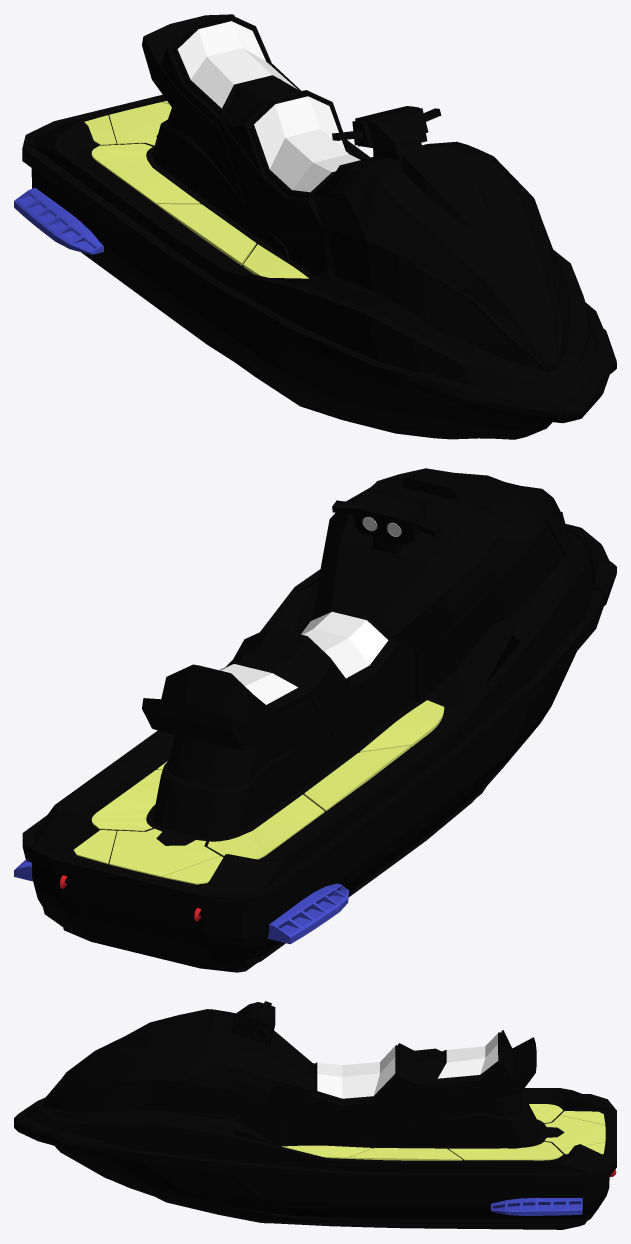
The model's file is Player.FBX.
3 views of the same model, one above another, from view 1: azimuth 30°, elevation 25°; view 2: azimuth 150°, elevation 25°; view 3: azimuth 270°, elevation 25° (orthographic). The views are drawn at different scales.
Parts seen in each view (by area): view 1: polySurface3, Jet_02, polySurface1, polySurface2, Jet_subdiv_03, Jet_01; view 2: polySurface3, Jet_02, polySurface1, Jet_subdiv_03, polySurface2, Jet_01; view 3: polySurface3, Jet_02, polySurface1, Jet_subdiv_03, polySurface2, Jet_01.
Part boxes in pixels (bbox=[...]): polySurface3: bbox=[22, 14, 616, 439]; Jet_02: bbox=[84, 101, 308, 278]; polySurface1: bbox=[254, 96, 360, 192]; polySurface2: bbox=[177, 21, 297, 108]; Jet_subdiv_03: bbox=[14, 188, 103, 254]; Jet_01: bbox=[91, 102, 260, 275]; polySurface3: bbox=[22, 468, 616, 972]; Jet_02: bbox=[74, 700, 444, 883]; polySurface1: bbox=[301, 611, 388, 678]; Jet_subdiv_03: bbox=[14, 859, 349, 944]; polySurface2: bbox=[219, 664, 297, 704]; Jet_01: bbox=[73, 708, 444, 884]; polySurface3: bbox=[14, 1001, 616, 1229]; Jet_02: bbox=[282, 1104, 605, 1159]; polySurface1: bbox=[317, 1046, 395, 1098]; Jet_subdiv_03: bbox=[491, 1197, 582, 1215]; polySurface2: bbox=[438, 1033, 498, 1078]; Jet_01: bbox=[324, 1110, 604, 1160].
Bounding box in the file's own units: 106 × 104 × 291.
6 materials, 5 textured.
